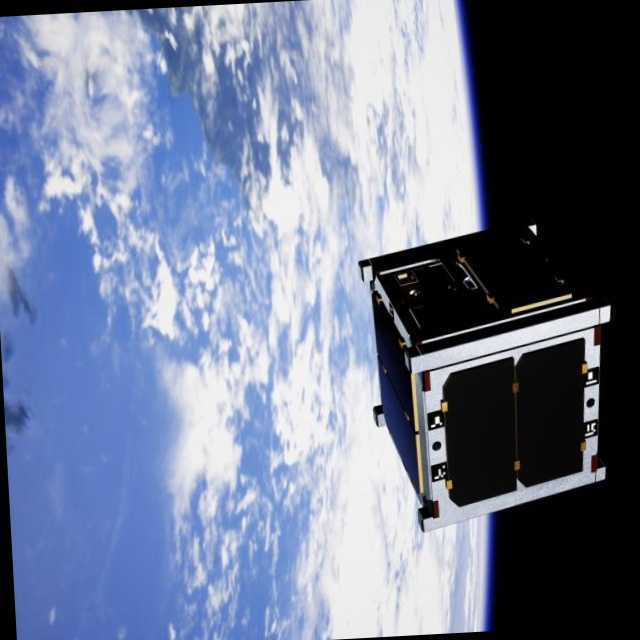medium_debris: (355, 207, 631, 540)
